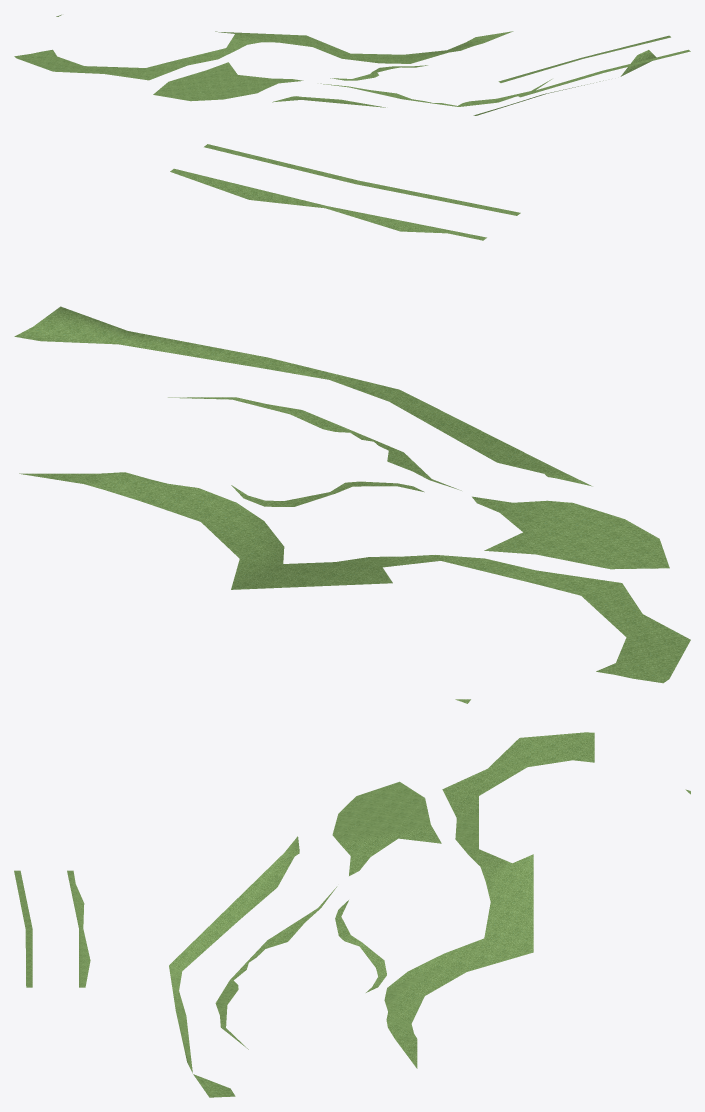
Rendered from kd_connection_town-ground_surface_2_8.glb.
3 renders of one model, top to bottom at view 1: azimuth 30°, elevation 25°; view 2: azimuth 150°, elevation 25°; view 3: azimuth 270°, elevation 25°, orthographic. The views are drawn at different scales.
Parts seen in each view (by area): view 1: kd_connection_town-ground_surface_2_8; view 2: kd_connection_town-ground_surface_2_8; view 3: kd_connection_town-ground_surface_2_8.
Boxes of the visible parts, x1,y1,x2,y2 form: kd_connection_town-ground_surface_2_8: [14, 14, 690, 115]; kd_connection_town-ground_surface_2_8: [14, 144, 690, 703]; kd_connection_town-ground_surface_2_8: [14, 732, 690, 1097].
Bounding box in the file's own units: 121 × 17.57 × 103.
1 material, 1 textured.
